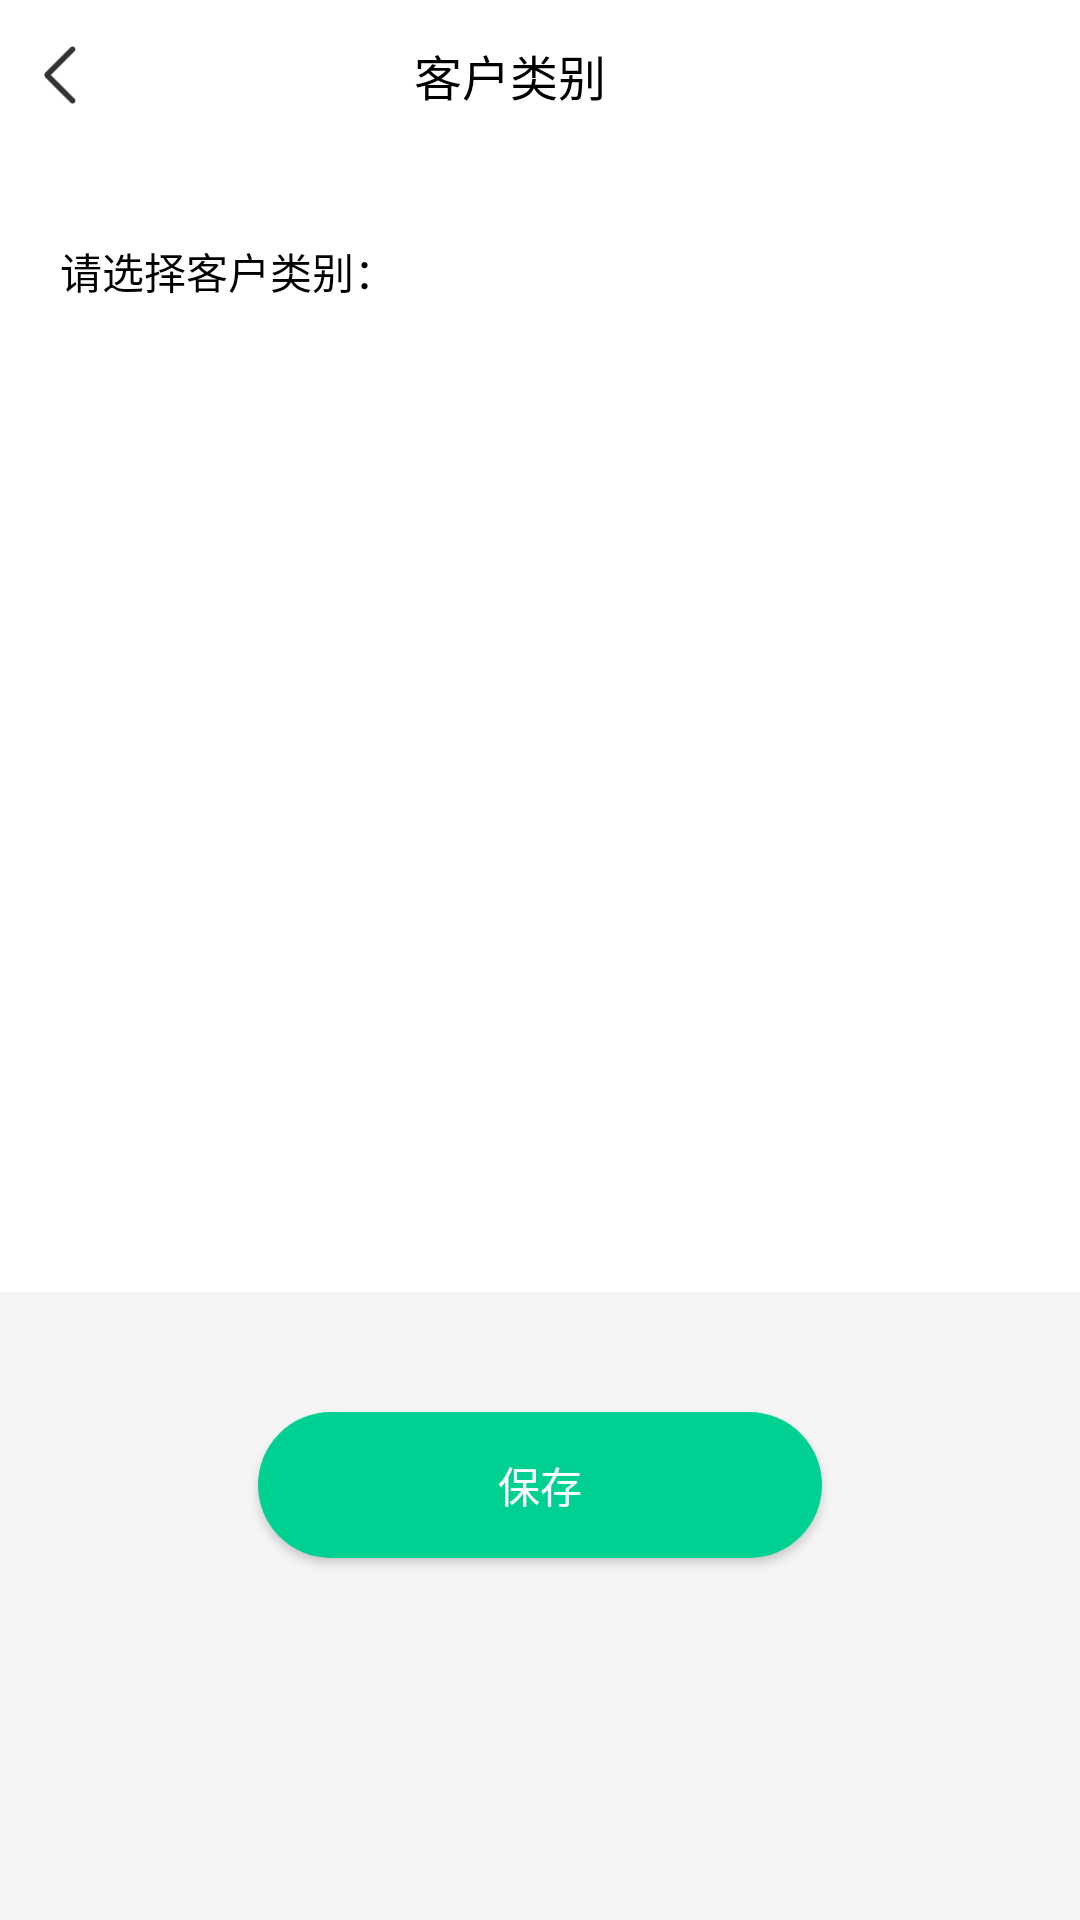

Point at icon controls on the screen. Image size 1080x1920, points as (x=x, y=y).
返回上一界面: (x=60, y=75)
